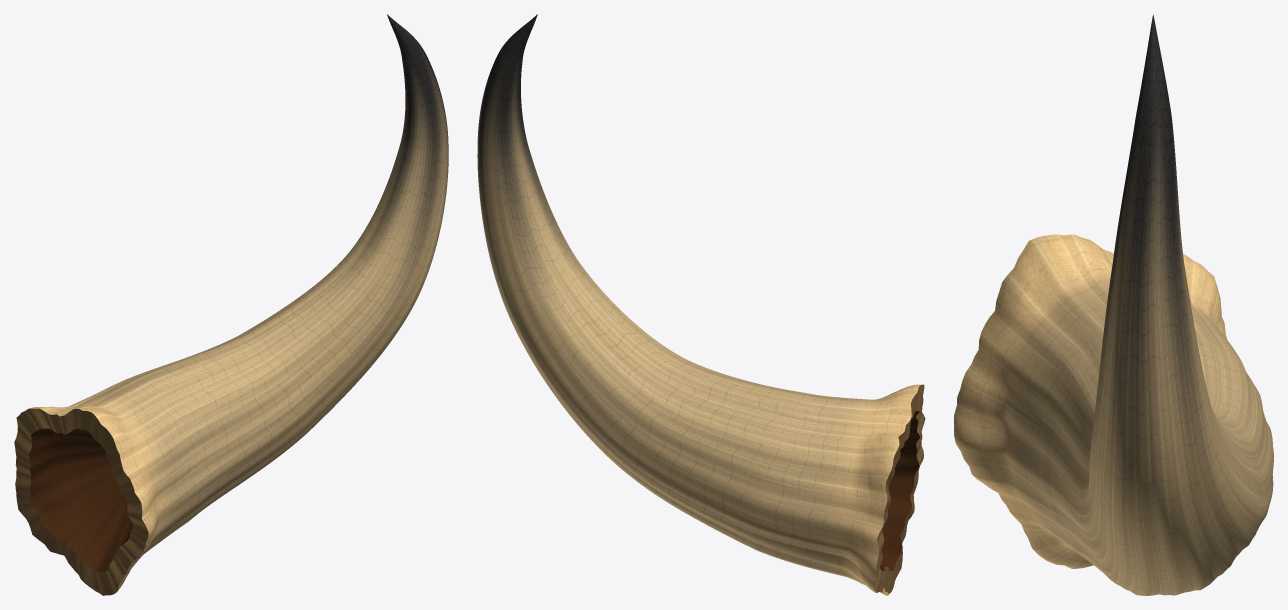
File: aurochs_horn.glb
The picture shows the model from 3 angles, left to right: view 1: azimuth 30°, elevation 25°; view 2: azimuth 150°, elevation 25°; view 3: azimuth 270°, elevation 25°; orthographic projection. The views are drawn at different scales.
Visible parts, largest first — view 1: aurochs_horn natural keratin, aurochs_horn porous root interior, aurochs_horn exposed chipped root; view 2: aurochs_horn natural keratin, aurochs_horn porous root interior, aurochs_horn exposed chipped root; view 3: aurochs_horn natural keratin.
Boxes of the visible parts, bbox=[...] form: aurochs_horn natural keratin: bbox=[30, 14, 448, 592]; aurochs_horn porous root interior: bbox=[29, 428, 132, 572]; aurochs_horn exposed chipped root: bbox=[14, 408, 148, 595]; aurochs_horn natural keratin: bbox=[477, 14, 921, 595]; aurochs_horn porous root interior: bbox=[880, 410, 919, 571]; aurochs_horn exposed chipped root: bbox=[873, 384, 925, 593]; aurochs_horn natural keratin: bbox=[954, 14, 1273, 595].
Bounding box in the file's own units: 0.6918 × 0.7896 × 0.2855.
Materials: 3 (3 with a texture image).
